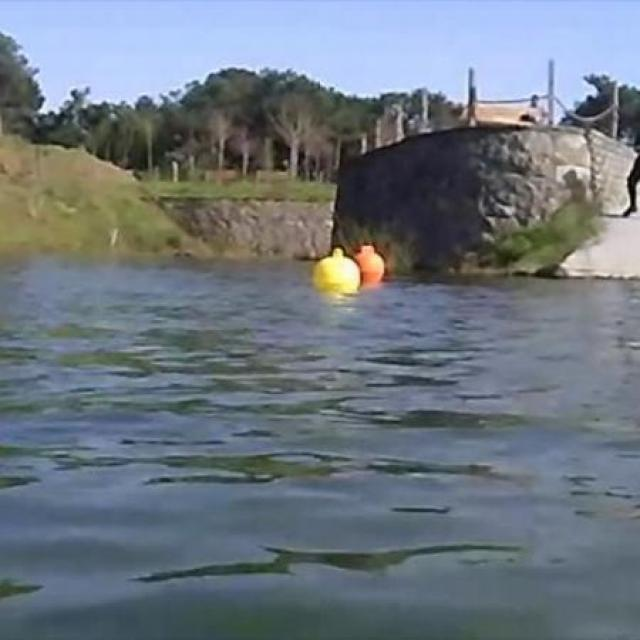buoy: (311, 247, 360, 295), (358, 244, 386, 282)
